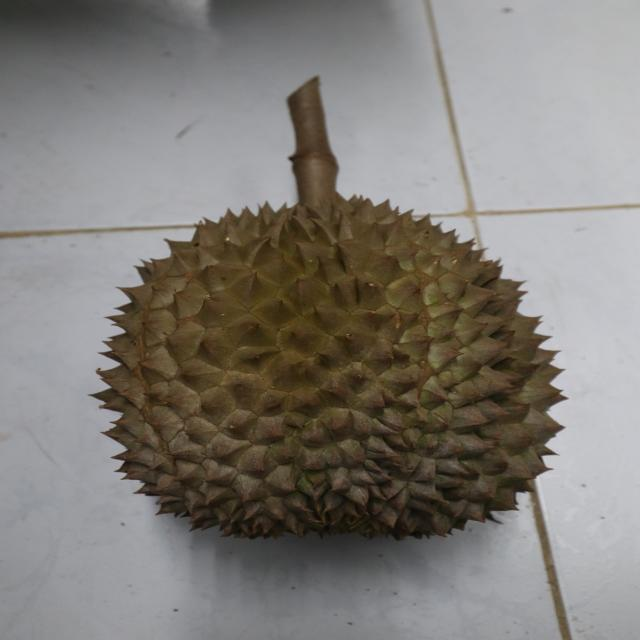mature: (91, 192, 568, 540)
